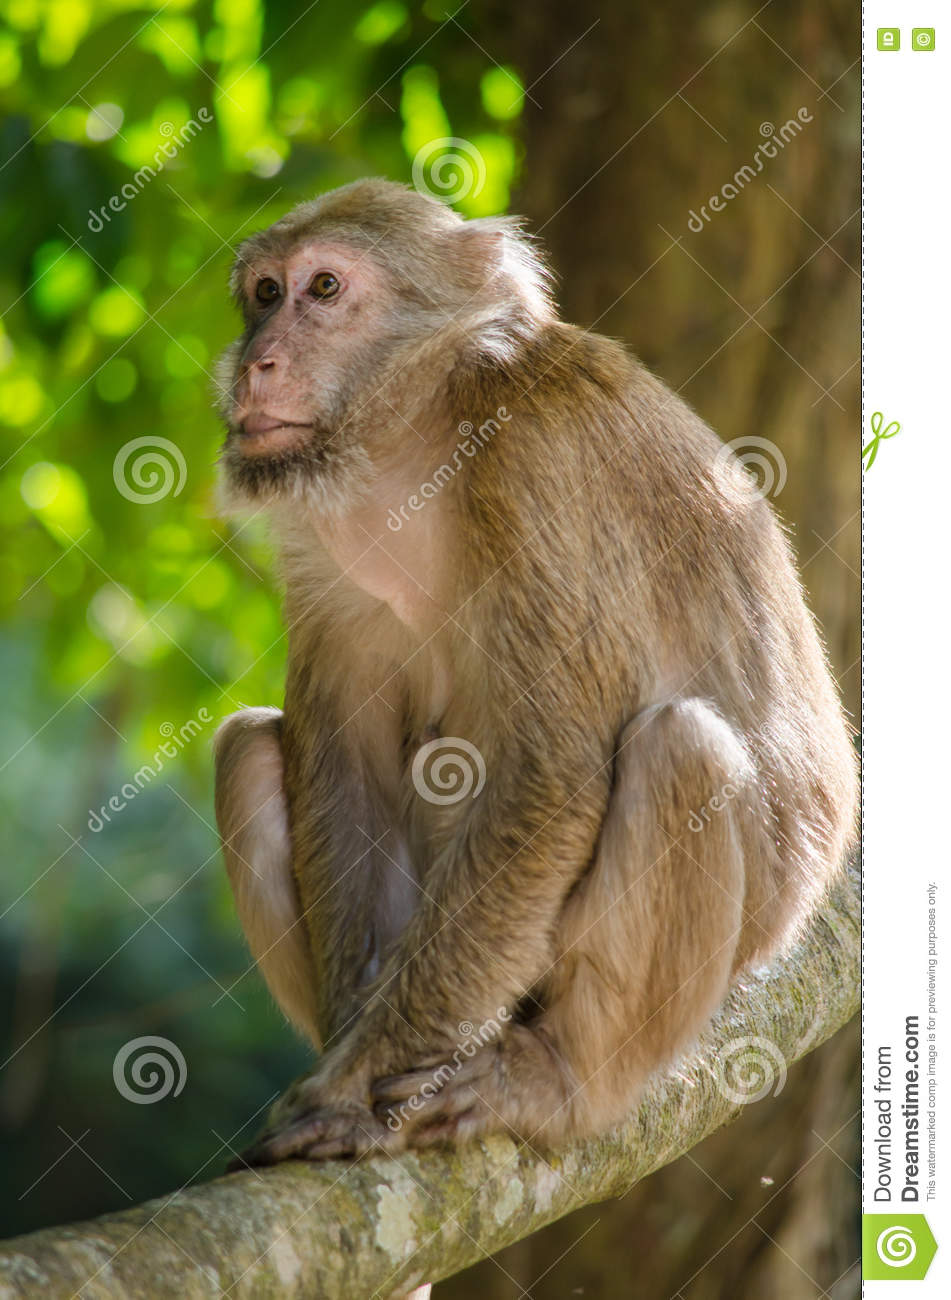monkey: (139, 176, 864, 1213)
